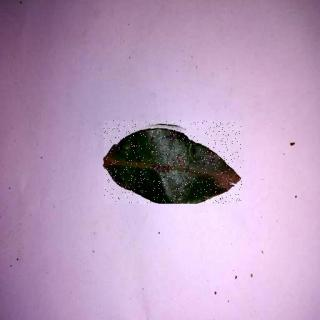Bird Eye Spot: (105, 122, 243, 205)
